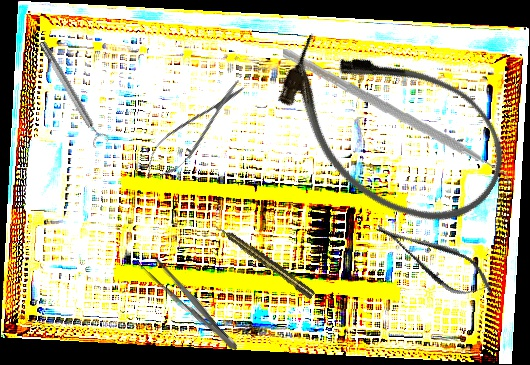Cannula: (253, 6, 529, 251)
Chopper: (282, 37, 511, 208)
Dressing Forceps: (133, 248, 244, 357)
Fixation Ring: (34, 37, 111, 150)
Handpiece: (214, 222, 317, 301)
Micro Scissor: (135, 71, 254, 190), (368, 208, 501, 310)
